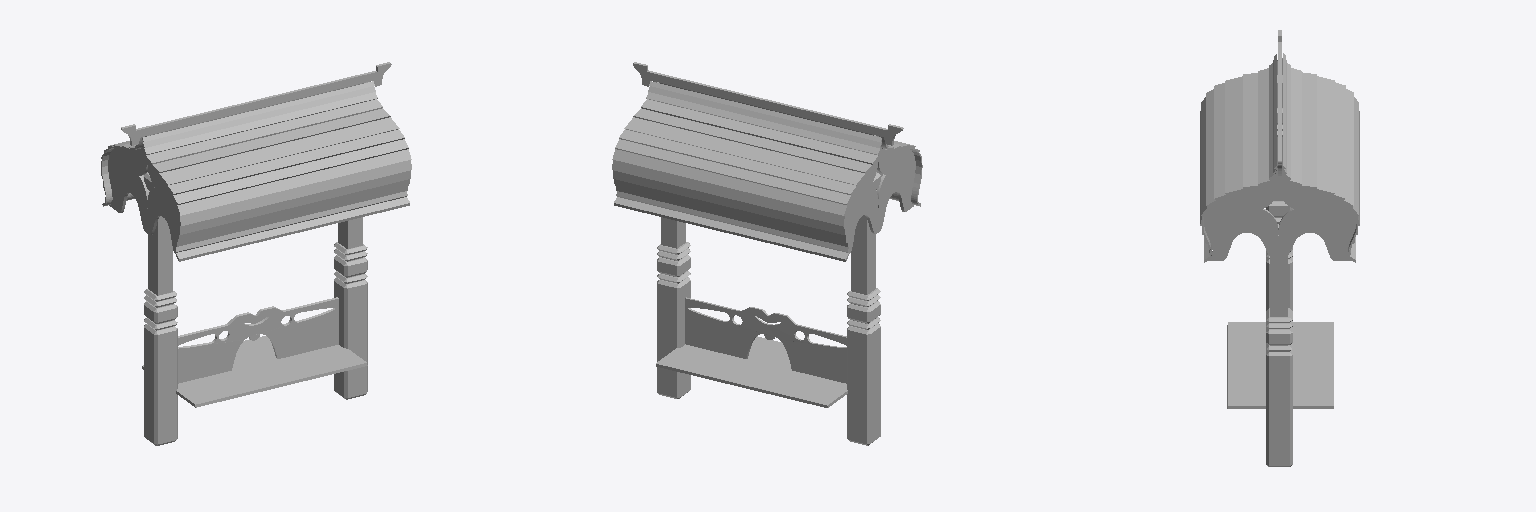
File: Bench3.obj
3 renders of one model, left to right at view 1: azimuth 30°, elevation 25°; view 2: azimuth 150°, elevation 25°; view 3: azimuth 270°, elevation 25°, orthographic.
Parts seen in each view (by area): view 1: Arc04; view 2: Arc04; view 3: Arc04.
Boxes of the visible parts, x1,y1,x2,y2 form: Arc04: [101, 62, 411, 445]; Arc04: [612, 62, 922, 445]; Arc04: [1200, 30, 1359, 466].
Bounding box in the file's own units: 1948 × 2223 × 1002.